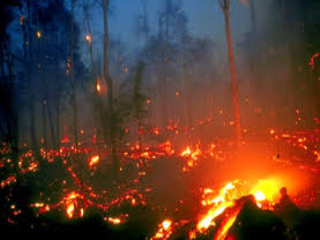fire: (208, 173, 289, 222), (60, 191, 97, 222), (176, 137, 212, 165), (155, 211, 180, 231)
